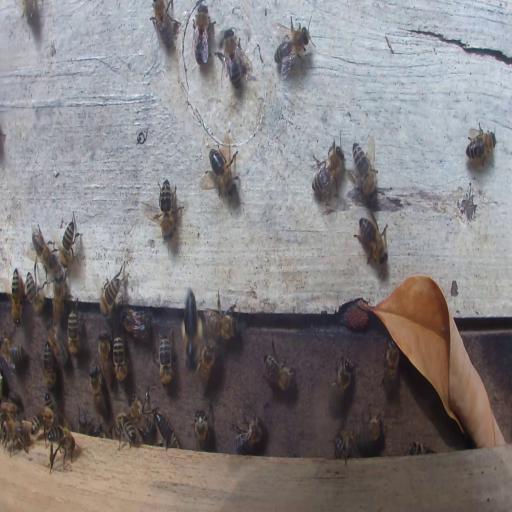bee: (272, 10, 312, 78), (310, 135, 346, 203), (205, 136, 239, 200), (180, 286, 204, 371), (215, 31, 249, 87), (347, 140, 378, 198), (153, 180, 184, 238), (356, 214, 388, 267), (204, 293, 240, 340), (190, 3, 215, 65), (58, 210, 82, 272), (151, 0, 180, 49), (263, 347, 293, 393), (46, 425, 76, 470), (466, 121, 496, 166), (232, 410, 263, 453), (100, 265, 124, 318), (88, 362, 108, 416), (330, 356, 356, 397), (359, 405, 383, 449), (32, 224, 54, 271), (129, 395, 153, 438), (46, 322, 68, 368), (197, 340, 216, 393), (25, 268, 46, 314), (157, 328, 173, 386), (382, 339, 399, 392), (113, 414, 138, 450), (153, 411, 179, 445), (0, 334, 25, 369), (2, 420, 30, 450), (120, 307, 147, 338), (332, 431, 358, 463), (112, 333, 128, 384), (10, 267, 23, 326), (34, 405, 56, 436), (52, 272, 65, 324), (194, 408, 209, 450), (44, 340, 56, 392), (98, 331, 112, 375), (68, 307, 80, 358), (0, 400, 20, 422), (409, 442, 426, 454)
